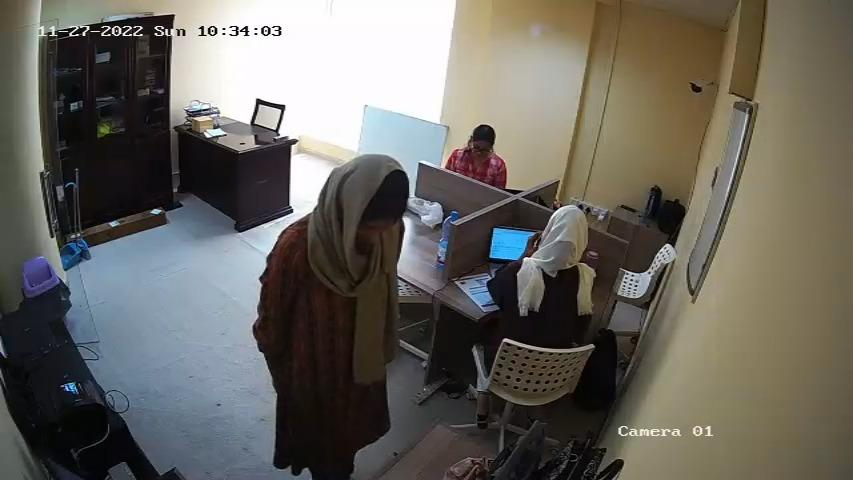no_apron: (276, 244, 391, 441)
